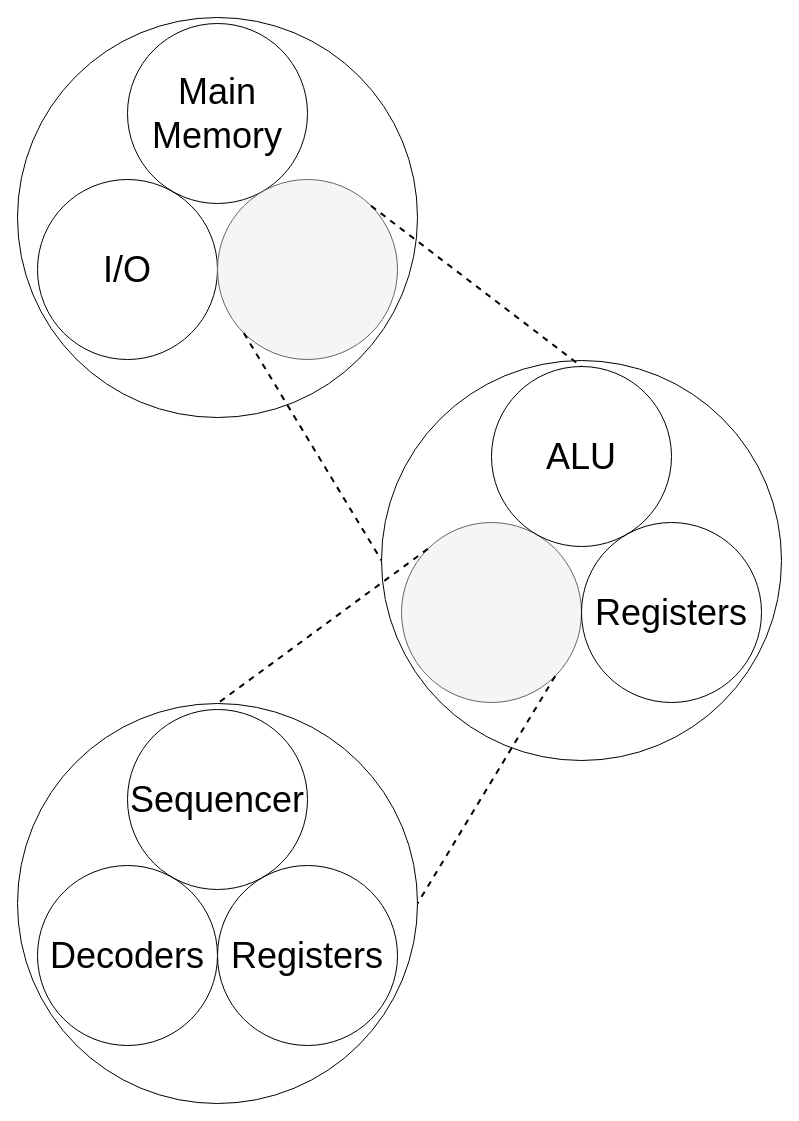
Some shapes in this 799 by 1121 pixel diagram are drawn without their labels. Here are the shapes that lost their labels. From the top down, the centre of each, then its label:
point (307, 269): CPU
point (491, 612): Control Unit
